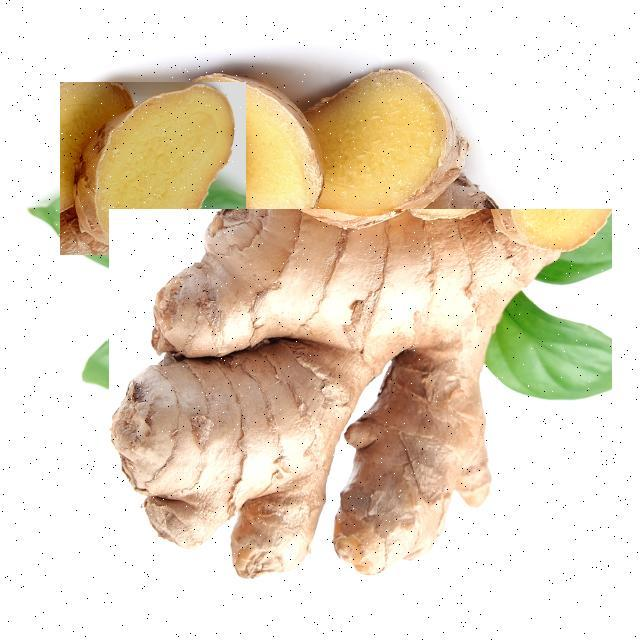ginger: (109, 209, 612, 596), (61, 82, 247, 255)
